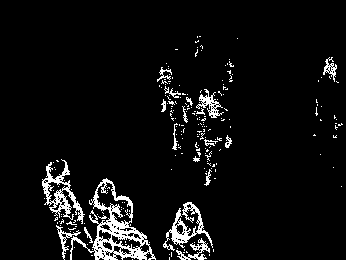person: (42, 156, 93, 256), (93, 195, 153, 260), (166, 201, 212, 260), (205, 92, 230, 183), (167, 84, 189, 152), (95, 178, 116, 217)
